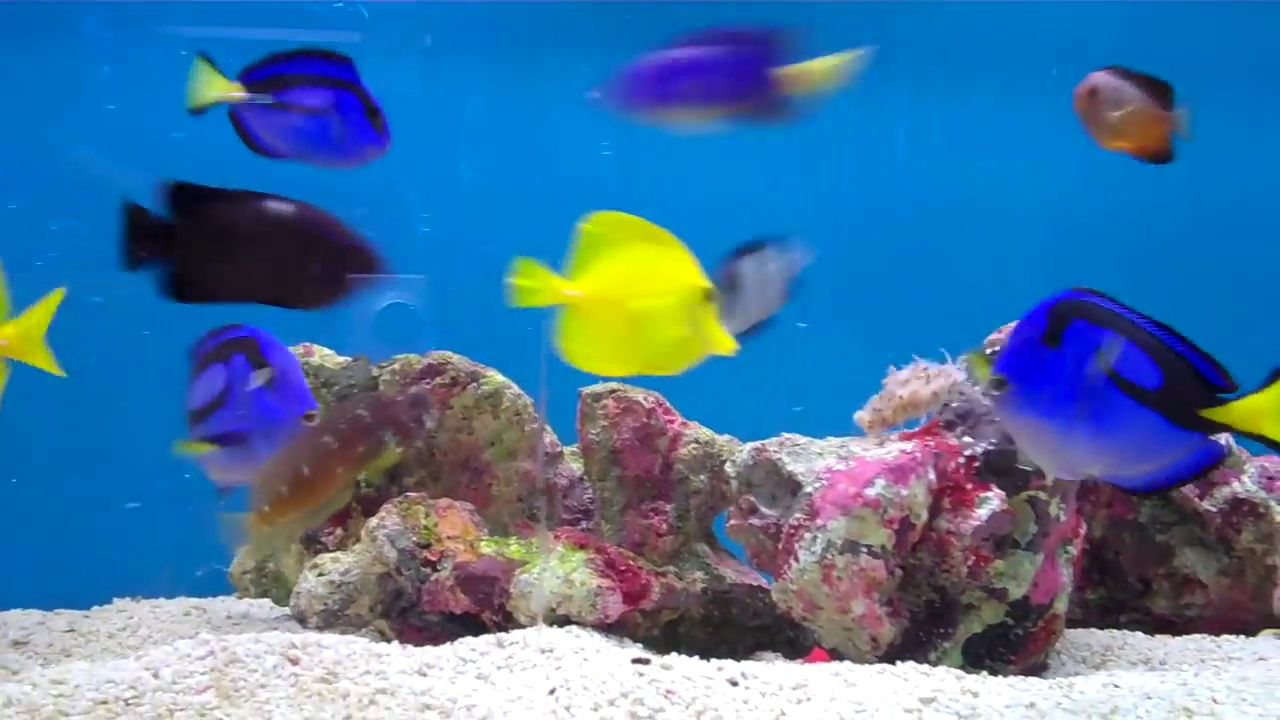blue tang surgeonfish: (971, 264, 1280, 519), (175, 38, 394, 184), (161, 319, 326, 510)
saddle butterfly fish: (512, 198, 742, 387)
